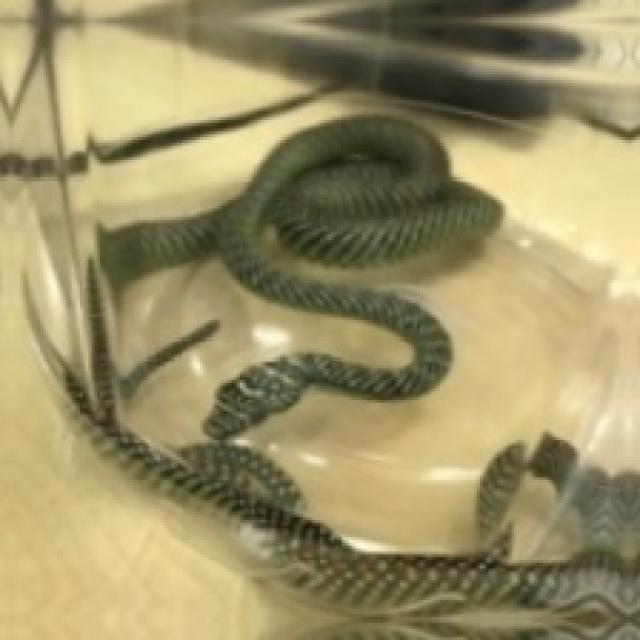paradise tree snake: (26, 114, 637, 637), (23, 263, 637, 637), (97, 114, 500, 437), (346, 451, 486, 531)
